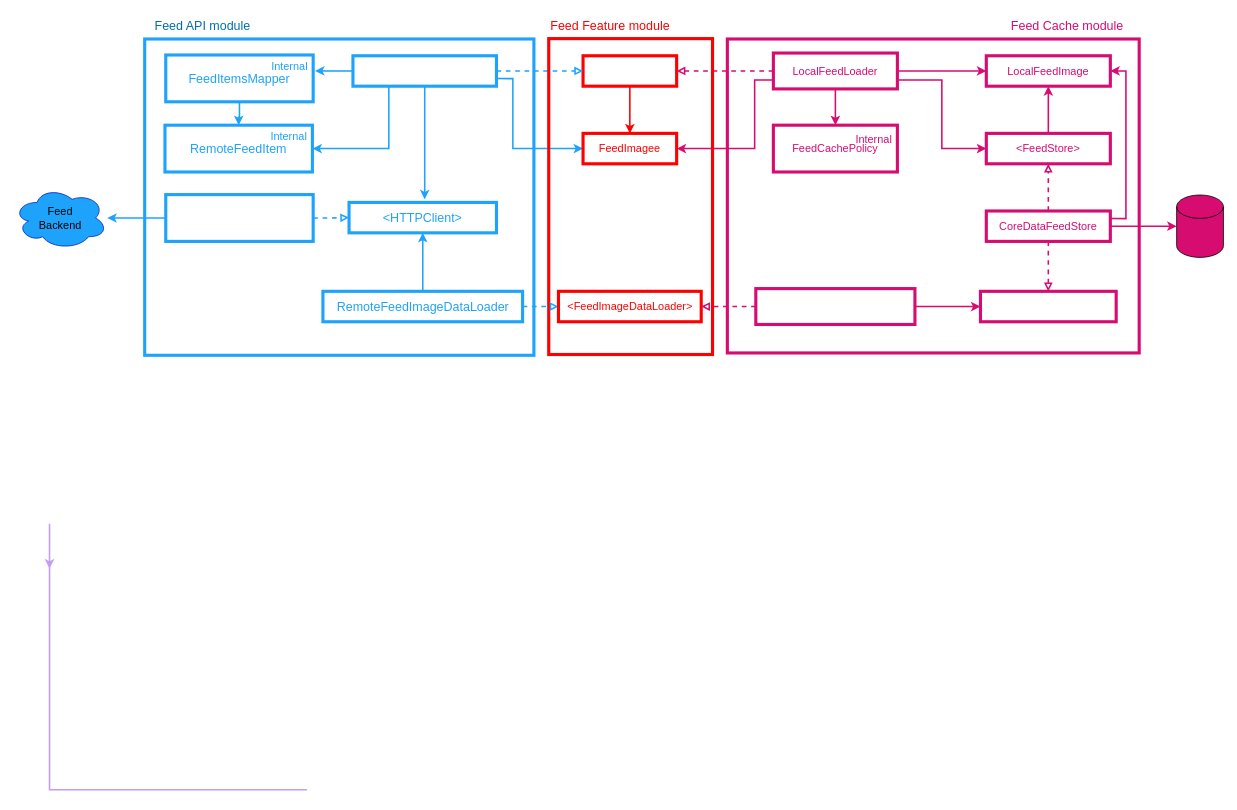
The diagram is 1237 pixels wide and 810 high, and some of its shapes have lost their labels. Here are the shapes that lost their labels. From the top down, the box of each, then its label:
(351, 54, 498, 87): RemoteFeedLoader
(581, 54, 678, 87): <FeedLoader>
(164, 193, 314, 243): URLSession HTTPClient
(1176, 194, 1223, 257): Core Data
(754, 287, 916, 326): LocalFeedImageDataLoader
(979, 289, 1117, 323): <FeedImageDataStore>
